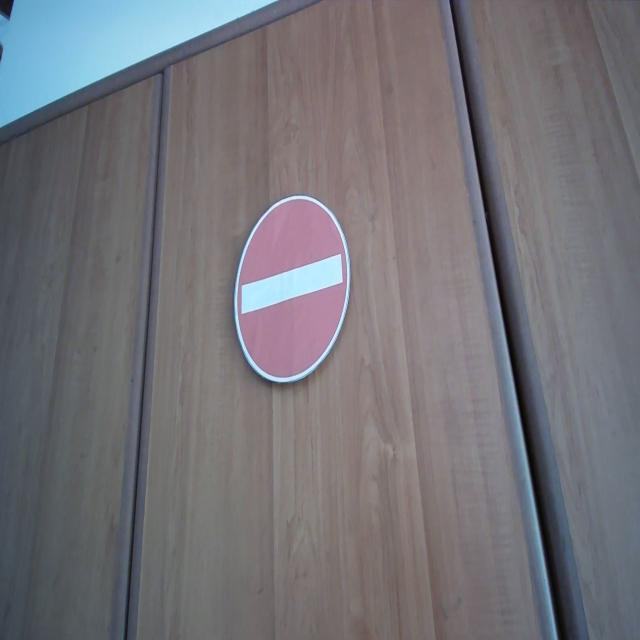no_entry: (232, 192, 352, 387)
